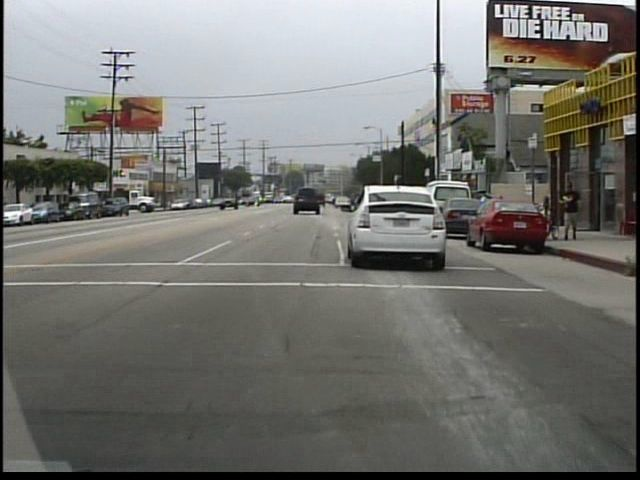person: (558, 174, 585, 246)
